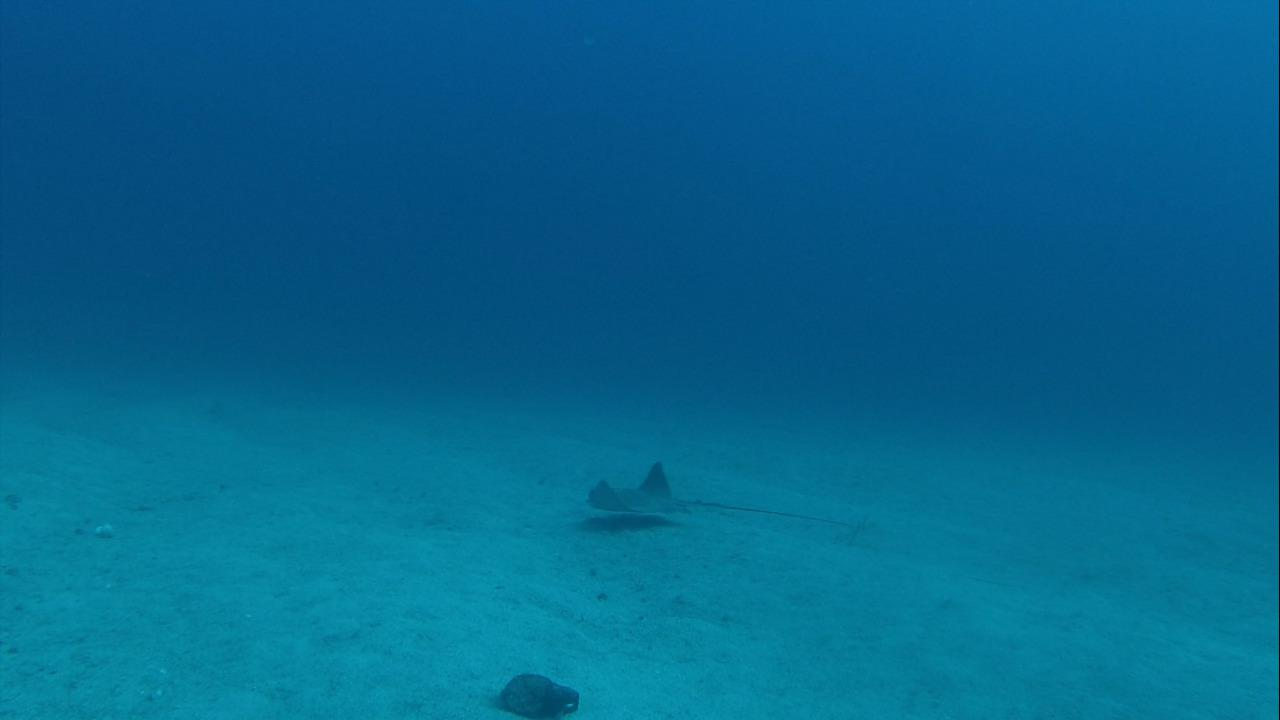myliobatis: (572, 458, 840, 533)
